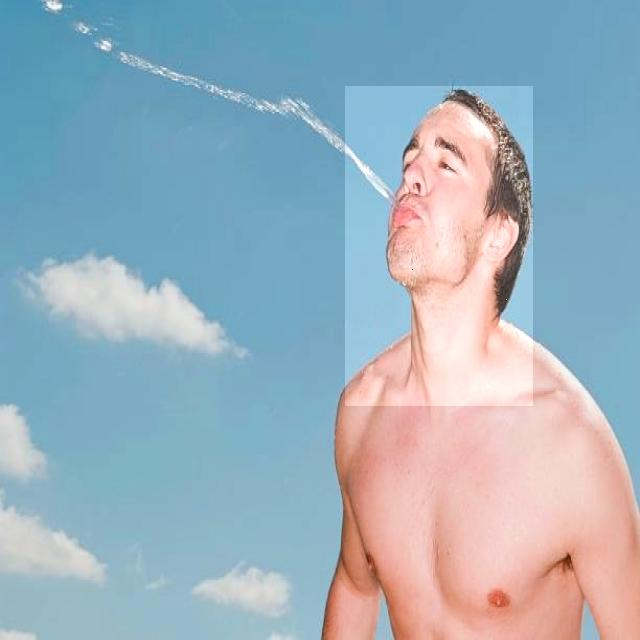Spitting: (345, 86, 533, 406)
